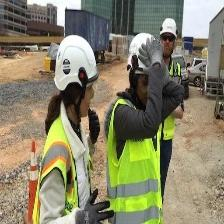Person: (32, 25, 99, 224), (106, 28, 160, 224), (161, 13, 183, 195)
helmet: (51, 29, 96, 94), (128, 32, 160, 76), (162, 18, 179, 36)
vest: (33, 116, 91, 224), (107, 99, 153, 224), (170, 62, 181, 80)
